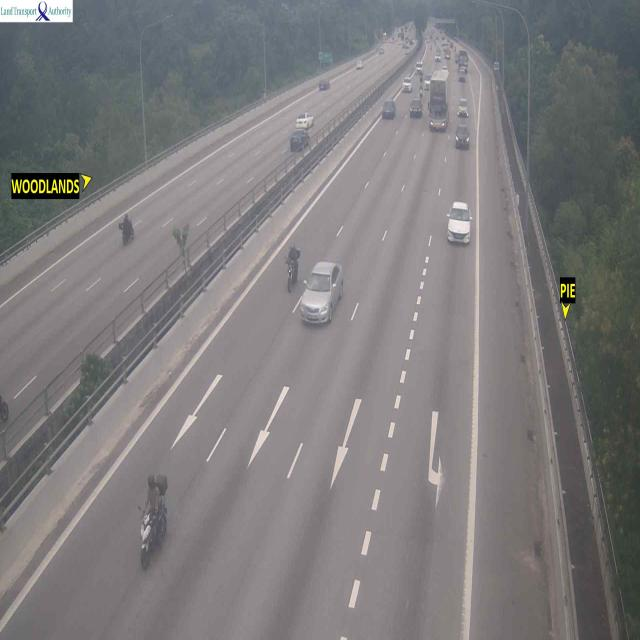vehicles: (304, 260, 339, 331), (427, 69, 451, 134), (444, 196, 472, 251), (289, 130, 316, 157), (454, 127, 472, 155), (380, 103, 402, 124), (294, 110, 314, 130), (401, 72, 418, 92), (410, 96, 424, 119), (458, 94, 469, 116), (320, 79, 332, 94)
